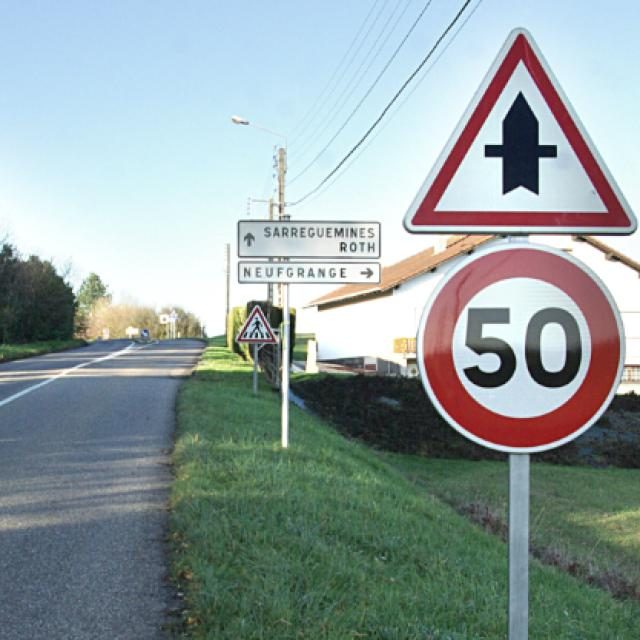speed_50: (416, 244, 625, 454)
